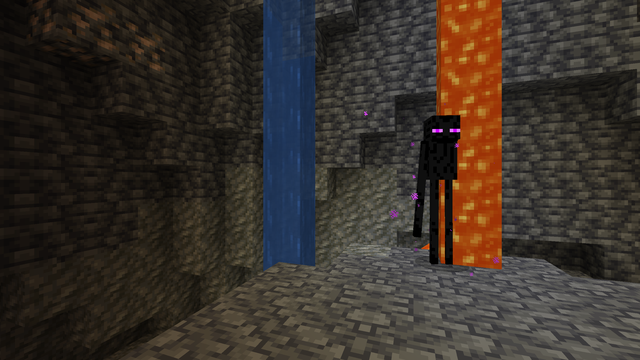endermens: (423, 108, 460, 269)
